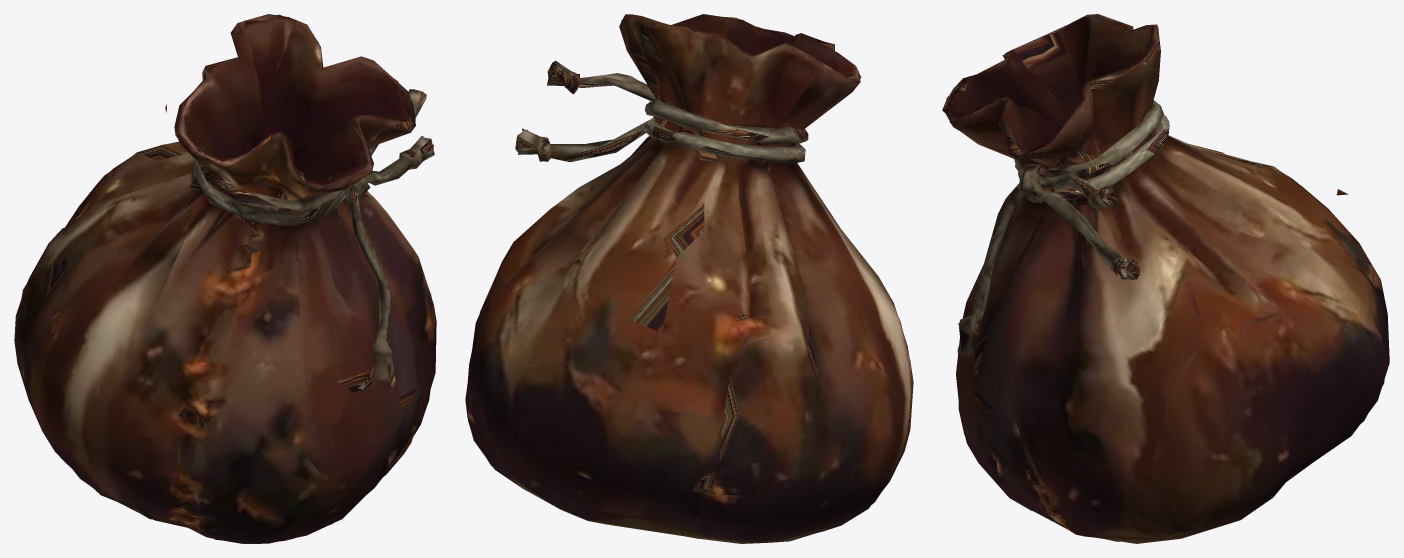
File: bag-lite.glb
3 renders of one model, left to right at view 1: azimuth 30°, elevation 25°; view 2: azimuth 150°, elevation 25°; view 3: azimuth 270°, elevation 25°, orthographic. The views are drawn at different scales.
Visible parts, largest first — view 1: geometry_0; view 2: geometry_0; view 3: geometry_0.
Part boxes in pixels (<box>): geometry_0: <box>14,14,436,543</box>; geometry_0: <box>465,14,913,543</box>; geometry_0: <box>942,14,1389,543</box>.
Size of the model in its own units: 0.7429 by 0.9021 by 0.7497.
Materials: 1 (1 with a texture image).
